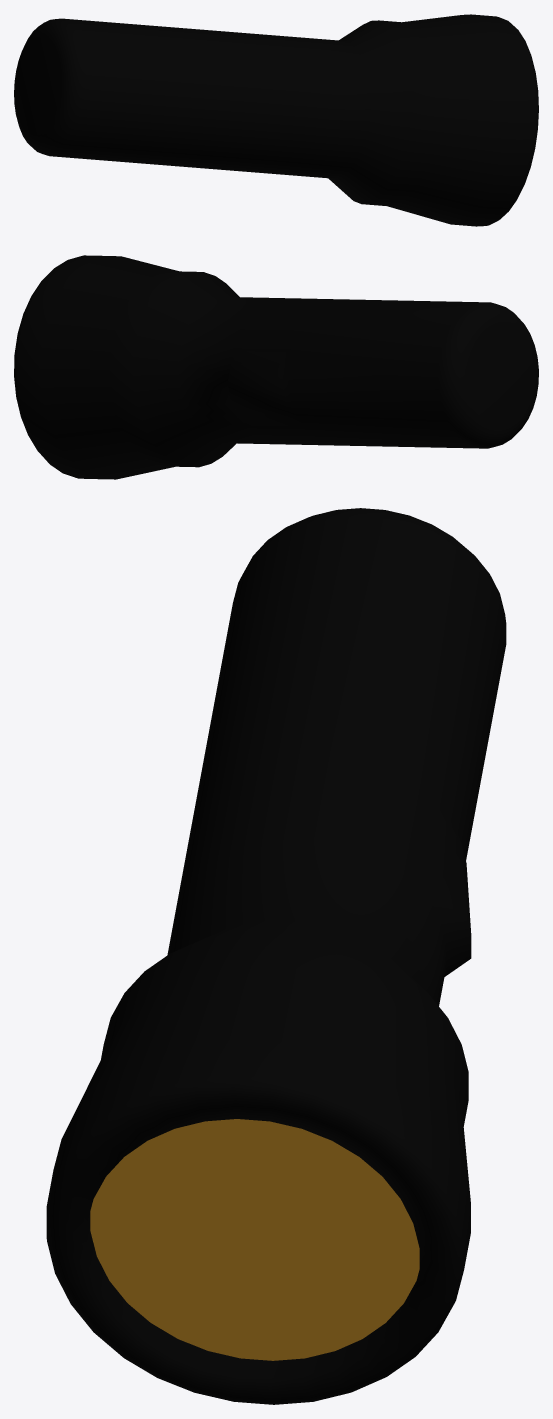
Rendered from Page8_Taschenlampe_neu.fbx.
The picture shows the model from 3 angles, top to bottom: view 1: azimuth 30°, elevation 25°; view 2: azimuth 150°, elevation 25°; view 3: azimuth 270°, elevation 25°; orthographic projection. The views are drawn at different scales.
Visible parts, largest first — view 1: Circle; view 2: Circle; view 3: Circle.
Part boxes in pixels (x1,y1,x2,y2): Circle: (14,14,538,226); Circle: (14,255,538,479); Circle: (46,508,506,1404).
Size of the model in its own units: 4373 by 2397 by 1886.
